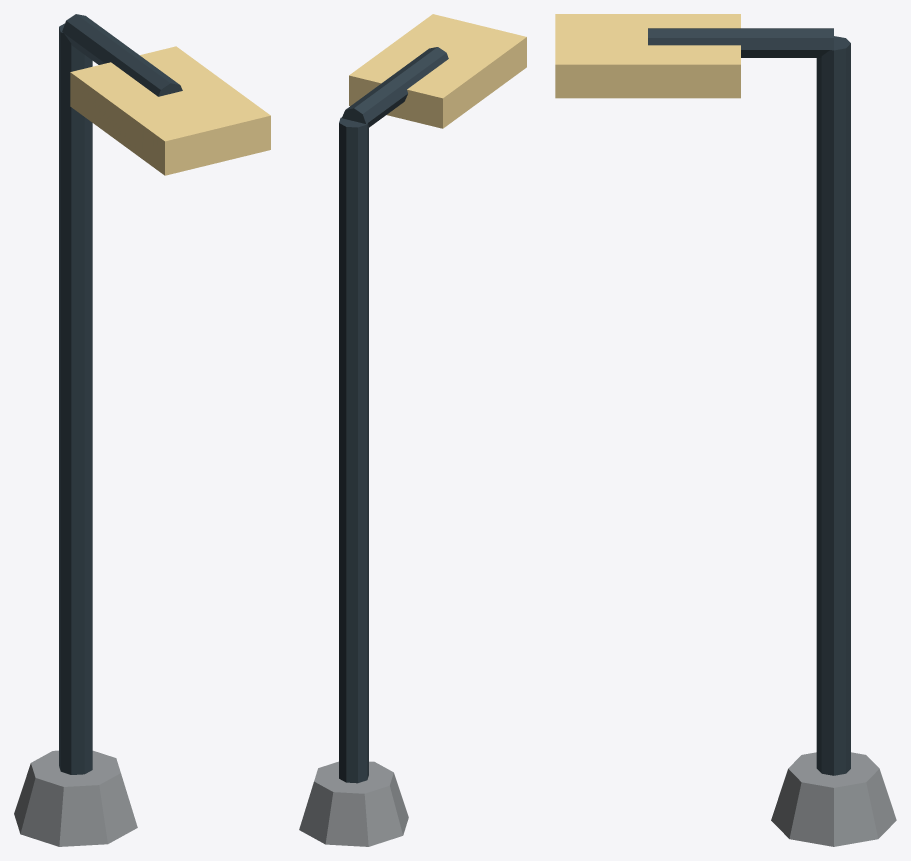
Rendered from streetlight.glb.
3 views of the same model, side by side, from view 1: azimuth 30°, elevation 25°; view 2: azimuth 150°, elevation 25°; view 3: azimuth 270°, elevation 25° (orthographic). The views are drawn at different scales.
Parts seen in each view (by area): view 1: pole, lamp, base, arm; view 2: pole, lamp, base, arm; view 3: pole, lamp, base, arm.
Part boxes in pixels (x1=…): pole: x1=59, y1=23, x2=92, y2=774; lamp: x1=70, y1=46, x2=270, y2=175; base: x1=14, y1=750, x2=137, y2=846; arm: x1=62, y1=14, x2=182, y2=96; pole: x1=339, y1=117, x2=368, y2=783; lamp: x1=349, y1=14, x2=526, y2=128; base: x1=299, y1=761, x2=408, y2=846; arm: x1=342, y1=47, x2=448, y2=127; pole: x1=816, y1=36, x2=850, y2=775; lamp: x1=555, y1=14, x2=740, y2=98; base: x1=771, y1=752, x2=896, y2=846; arm: x1=648, y1=28, x2=833, y2=57.
Size of the model in its own units: 0.44 by 3.06 by 1.19.
